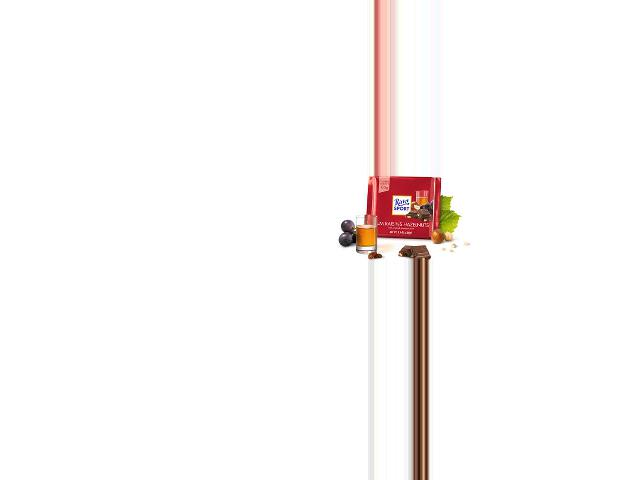chocolate: (368, 177, 443, 239)
